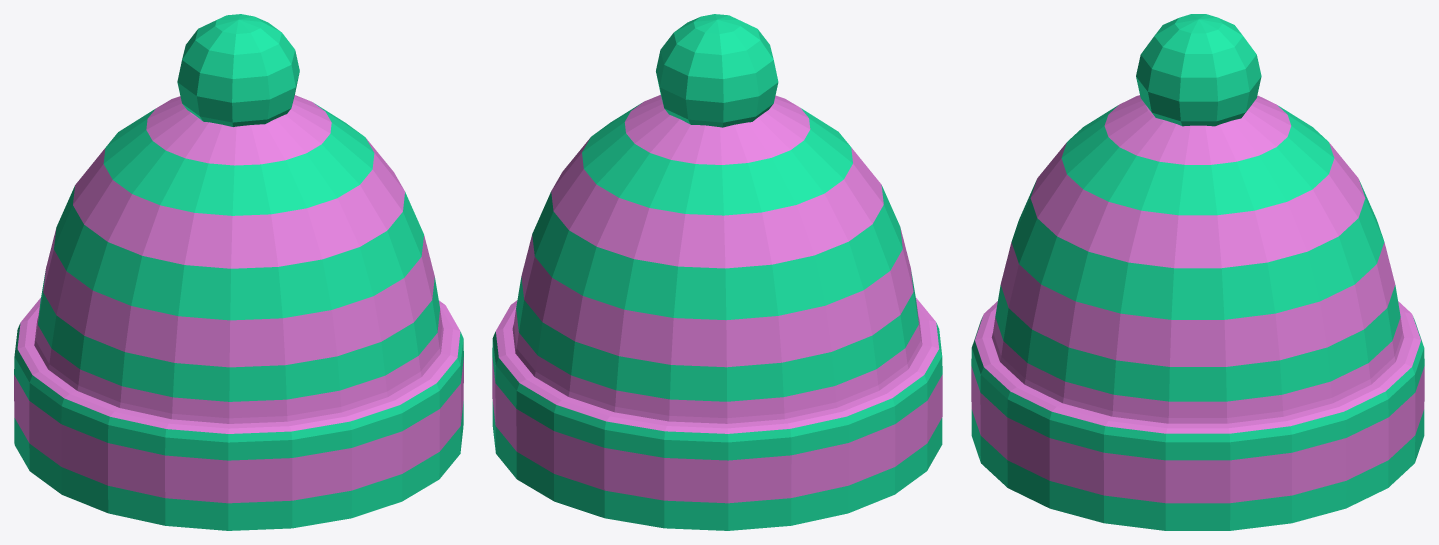
The model's file is Woolen hat.fbx.
3 views of the same model, side by side, from view 1: azimuth 30°, elevation 25°; view 2: azimuth 150°, elevation 25°; view 3: azimuth 270°, elevation 25° (orthographic).
Visible parts, largest first — view 1: woolenhat; view 2: woolenhat; view 3: woolenhat.
Part boxes in pixels (x1,y1,x2,y2): woolenhat: (14, 14, 463, 530); woolenhat: (492, 14, 942, 530); woolenhat: (971, 14, 1424, 530).
Size of the model in its own units: 38.31 by 39.58 by 38.7.
